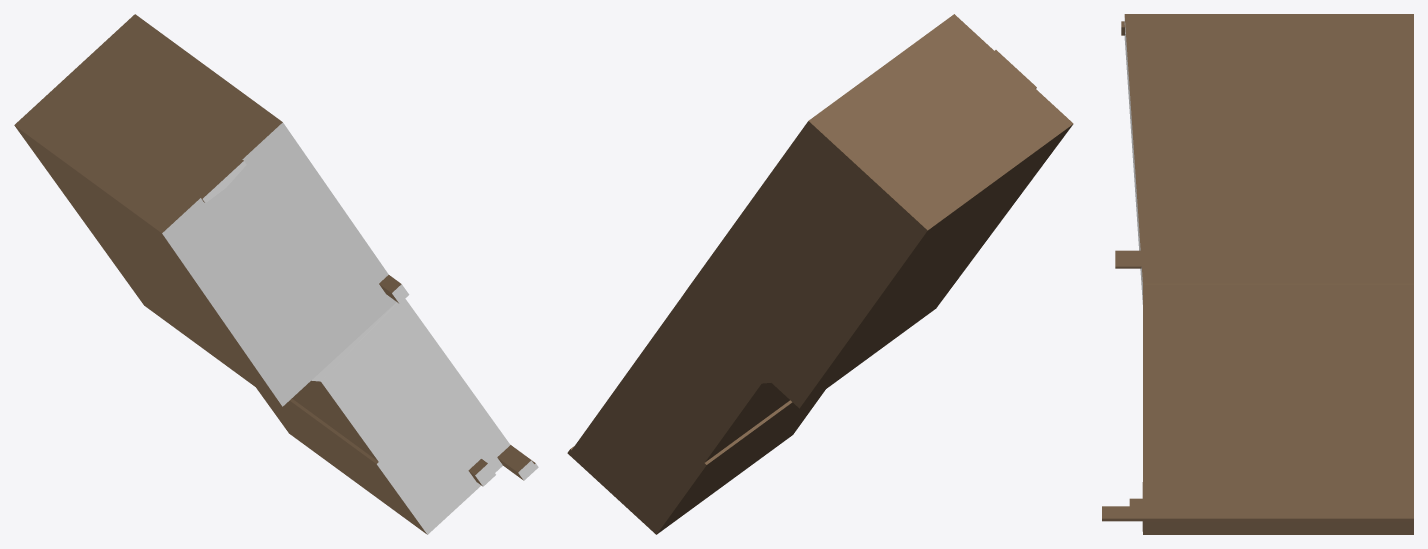
3 renders of one model, left to right at view 1: azimuth 30°, elevation 25°; view 2: azimuth 150°, elevation 25°; view 3: azimuth 270°, elevation 25°, orthographic. The views are drawn at different scales.
Visible parts, largest first — view 1: City_PC-01204; view 2: City_PC-01204; view 3: City_PC-01204.
Part boxes in pixels (box(x1,y1,x2,y2)): City_PC-01204: box(14, 14, 538, 534); City_PC-01204: box(567, 14, 1073, 534); City_PC-01204: box(1102, 14, 1413, 534).
Bounding box in the file's own units: 2155 × 2577 × 1629.
